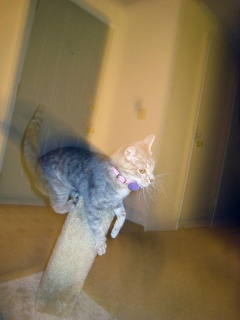Cat: (22, 101, 172, 255)
